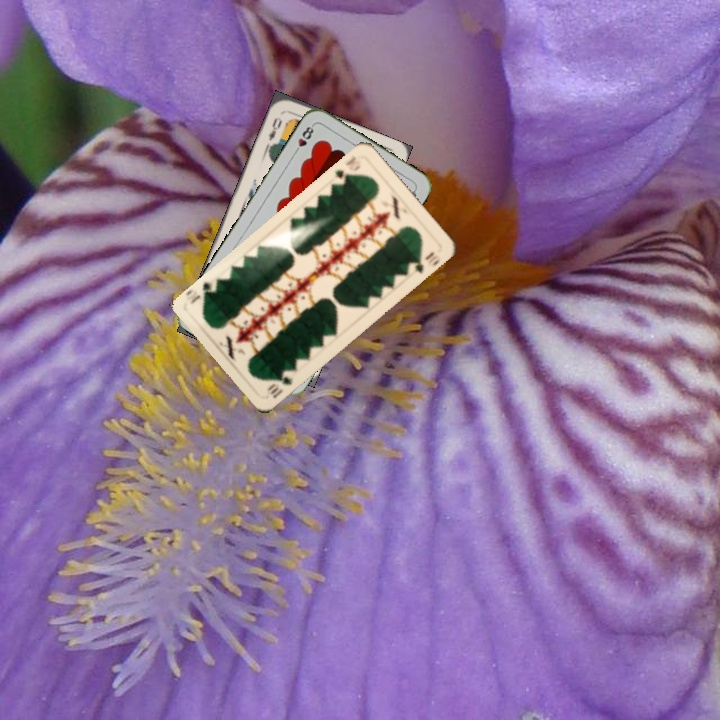EO: (265, 113, 285, 143)
G10: (263, 365, 297, 401), (331, 152, 363, 181)
H8: (290, 120, 317, 157)
